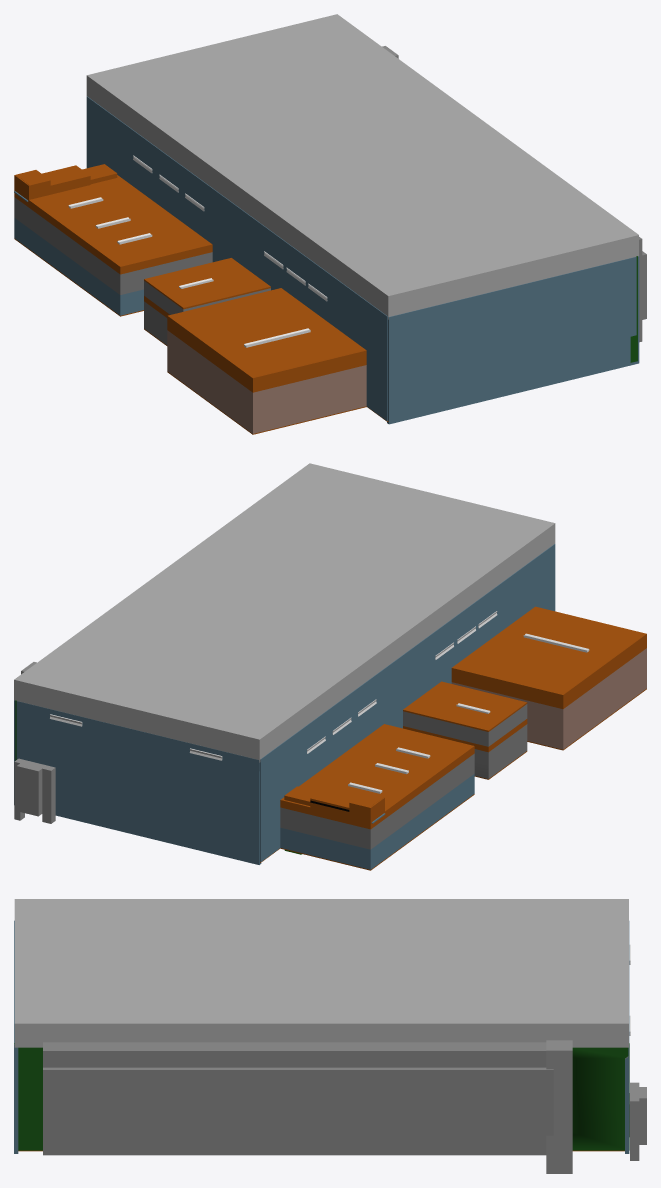
File: noob.fbx
3 renders of one model, top to bottom at view 1: azimuth 30°, elevation 25°; view 2: azimuth 150°, elevation 25°; view 3: azimuth 270°, elevation 25°, orthographic. The views are drawn at different scales.
Visible parts, largest first — view 1: Куб.001, Куб, Куб.011, Куб.040; view 2: Куб.001, Куб, Куб.024, Куб.043; view 3: Куб.001, Куб.040, Куб.002, Куб.044, Куб.043, Куб.011, Куб.024.
Boxes of the visible parts, <box> form: Куб.001: <box>86,14,638,319</box>; Куб: <box>14,96,388,434</box>; Куб.011: <box>387,256,639,424</box>; Куб.040: <box>639,237,646,342</box>; Куб.001: <box>14,463,555,762</box>; Куб: <box>259,544,646,870</box>; Куб.024: <box>14,700,261,864</box>; Куб.043: <box>14,758,55,823</box>; Куб.001: <box>14,899,628,1047</box>; Куб.040: <box>43,1042,553,1155</box>; Куб.002: <box>14,1043,629,1150</box>; Куб.044: <box>546,1040,572,1173</box>; Куб.043: <box>630,1082,646,1160</box>; Куб.011: <box>14,920,18,1153</box>; Куб.024: <box>625,921,629,1153</box>.
Size of the model in its own units: 3444 by 1169 by 4793.
